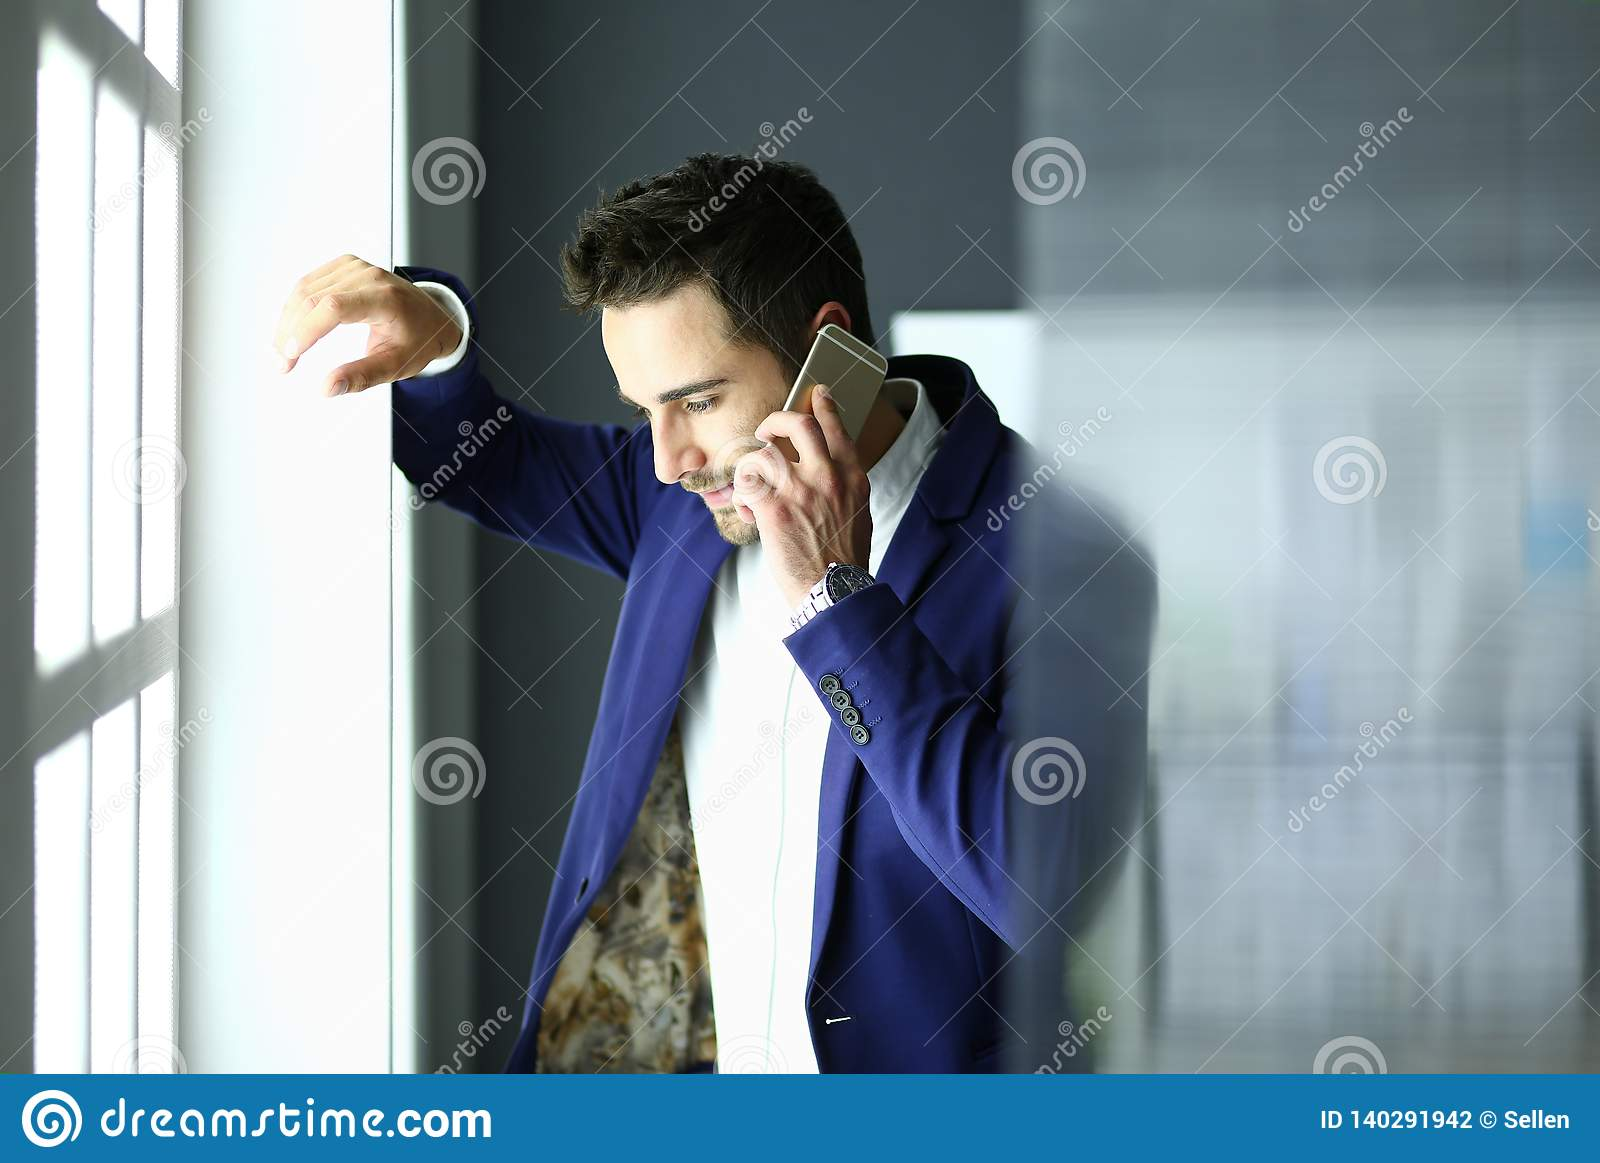phone: (775, 328, 886, 486)
talk: (617, 321, 891, 609)
